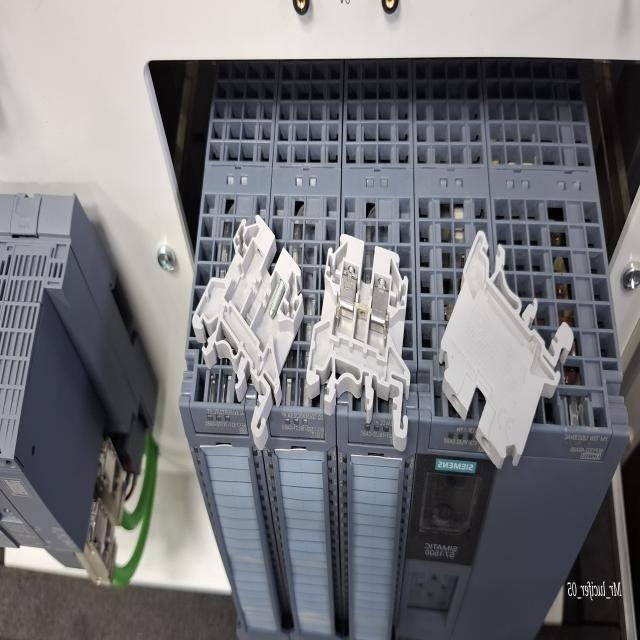Inverted: (438, 222, 574, 466)
Pass: (304, 227, 412, 453)
Reject: (192, 212, 302, 449)
